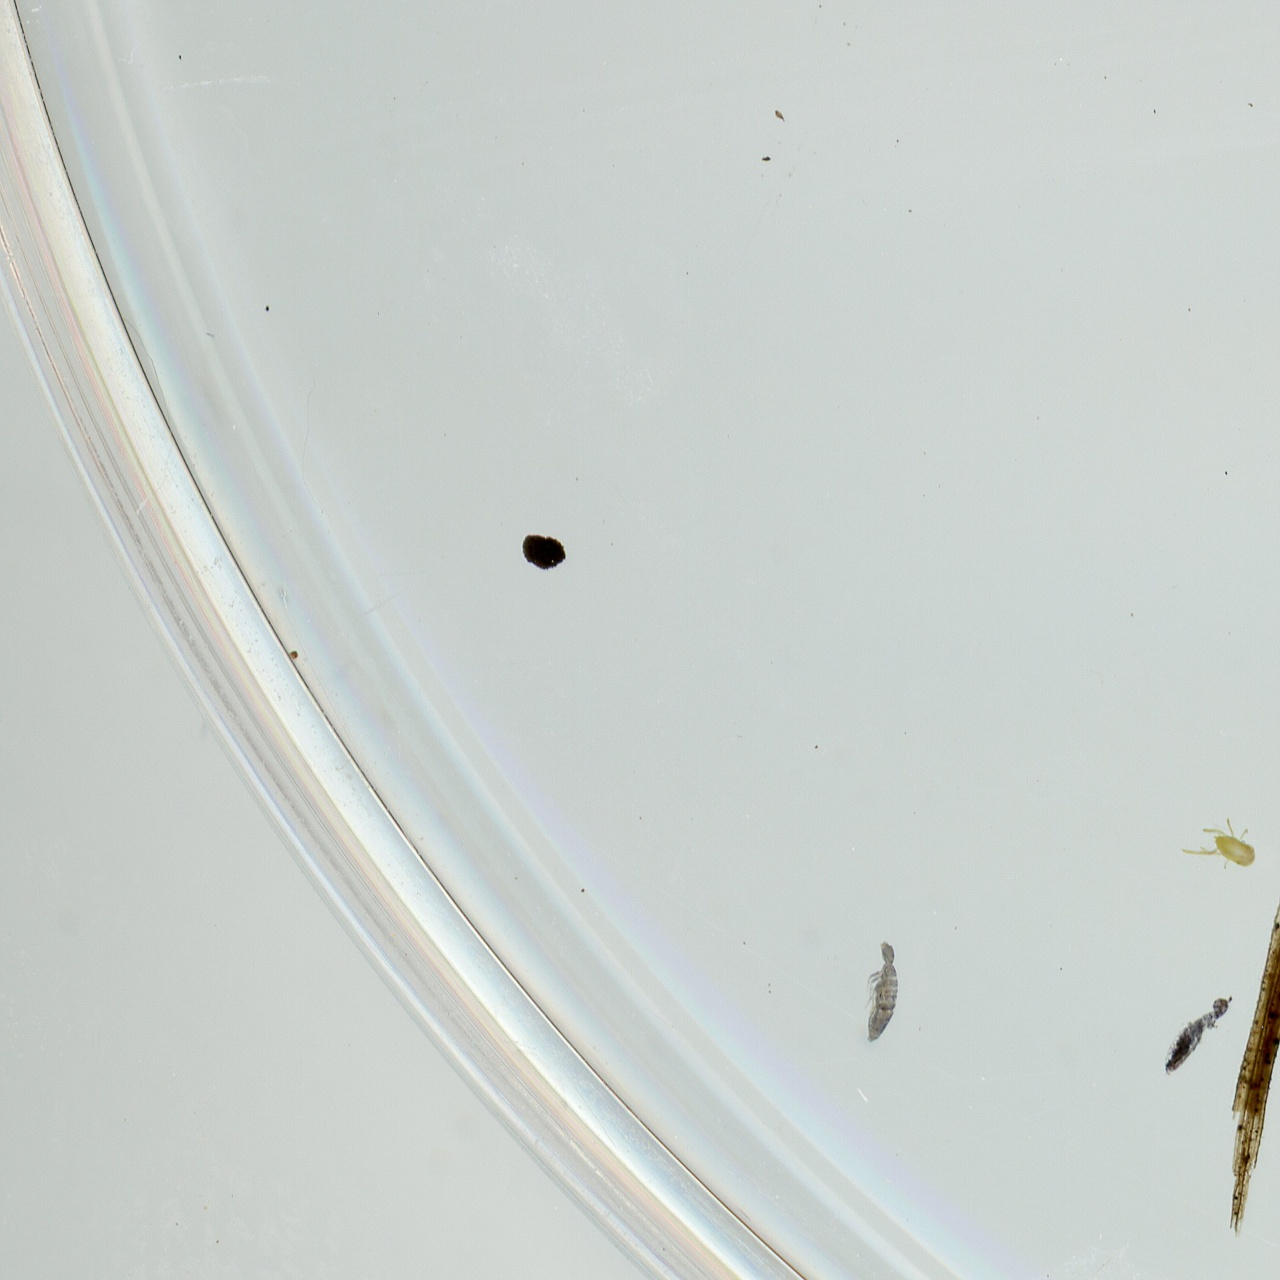arthropod: (1139, 967, 1247, 1103), (858, 933, 906, 1061), (1179, 817, 1258, 871)
